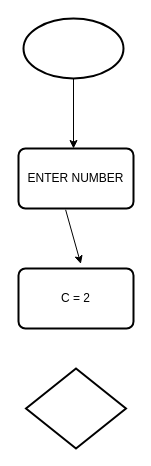
This 151x466 diagram has some shape labels left out. Here are the shapes that lost their labels. From the top down, the centre of each, then its label:
At point (73, 48): "START".
At point (75, 408): "IF C < N".
